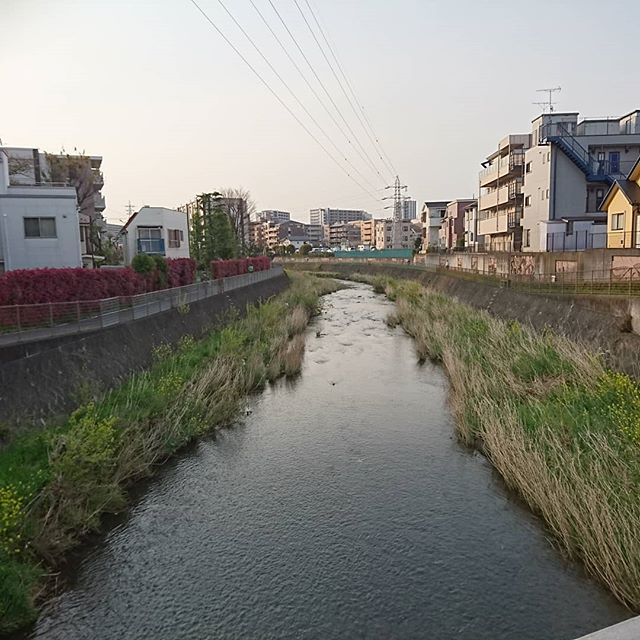building: (526, 112, 640, 258), (1, 152, 118, 270), (462, 138, 529, 265), (119, 197, 192, 269), (420, 199, 481, 250), (258, 209, 327, 249), (316, 208, 370, 248), (363, 216, 421, 252)
river: (1, 282, 640, 640)
sky: (11, 1, 640, 149)
